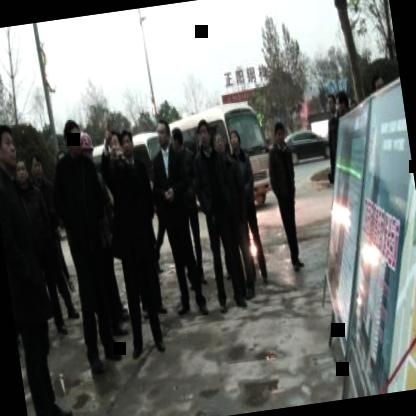head: (0, 118, 23, 175), (59, 117, 84, 159), (105, 124, 125, 167), (12, 151, 32, 188), (116, 126, 136, 158), (27, 150, 45, 184), (194, 120, 214, 150), (154, 116, 172, 149), (334, 85, 351, 119), (211, 128, 228, 160), (168, 124, 186, 154), (228, 127, 244, 158), (272, 118, 287, 149), (326, 92, 338, 119)
helmet: (76, 126, 97, 168)
